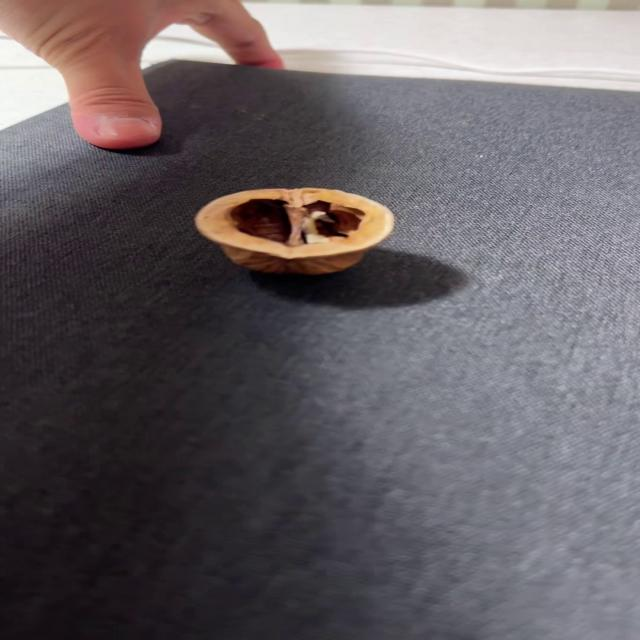nuts-bad0.5: (195, 188, 393, 275)
